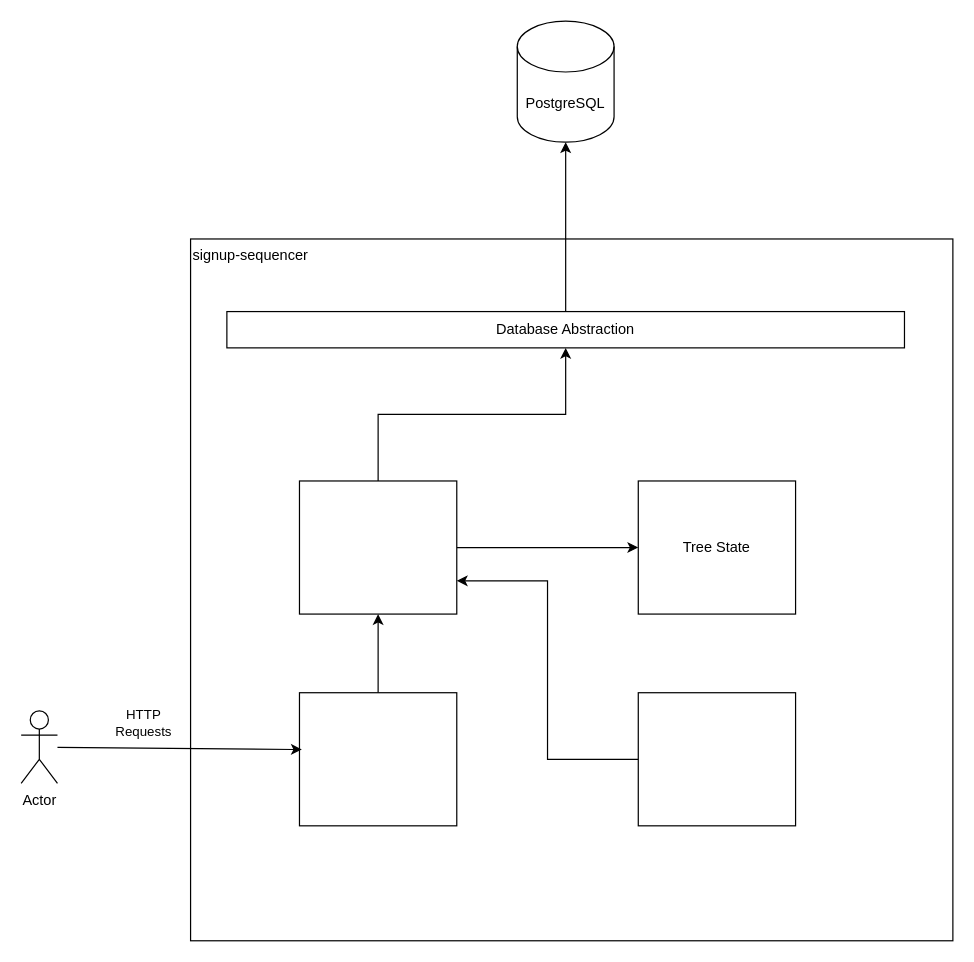
This 974x962 diagram has some shape labels left out. The shapes that lost their labels are listed below. From the top down, each one's centre as x and y in pixels, then its label:
point 377,547: App
point 377,759: API Server
point 716,759: Task Monitor
